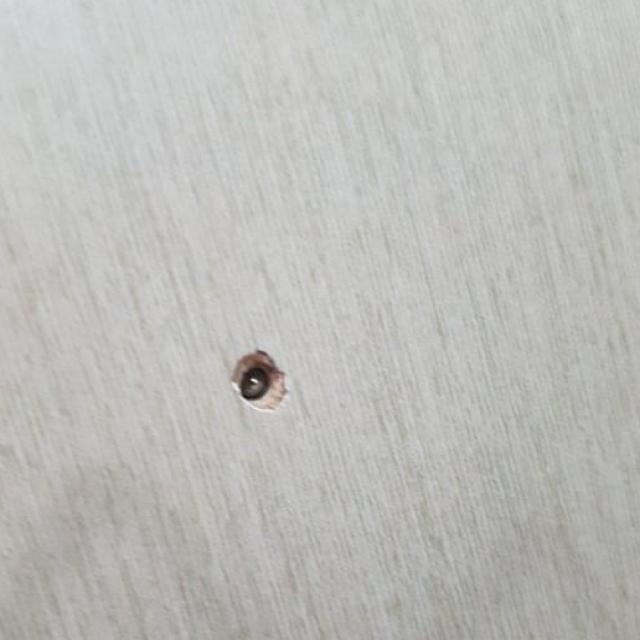hidden camera: (217, 330, 302, 420)
